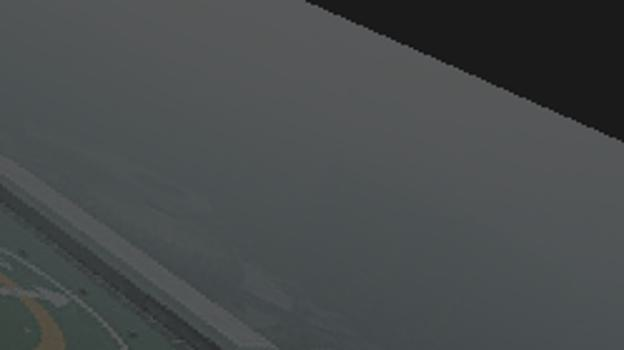Apron: (1, 267, 70, 349)
